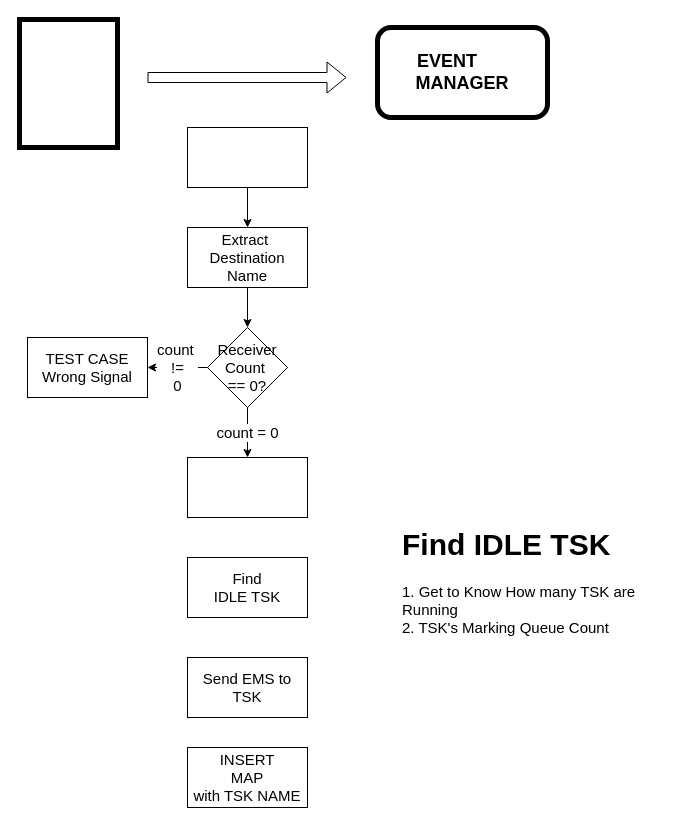
This 685x825 diagram has some shape labels left out. The shapes that lost their labels are listed below. From the top down, each one's centre as x and y in pixels, then its label:
At [68,83]: "EMS SERVER".
At [247,157]: "queue.create".
At [247,487]: "New Queue Assign To TSK".
